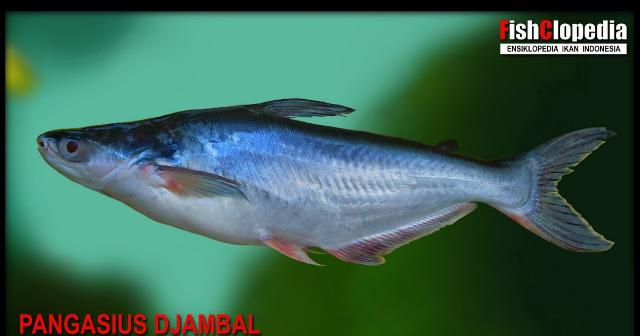Mulut: (20, 110, 80, 188)
Sirip Anal: (321, 197, 485, 273)
Sirip Dada: (142, 152, 258, 216)
Sirip Ekor: (498, 118, 632, 262)
Sirip Perut: (250, 222, 332, 276)
Sirip Punggung: (240, 84, 472, 164)
